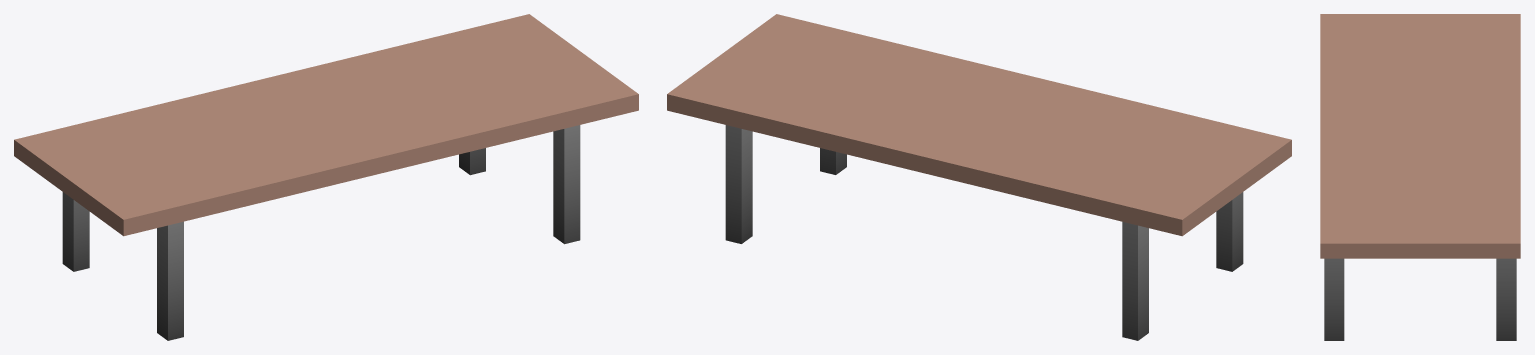
The model's file is Table.FBX.
3 views of the same model, side by side, from view 1: azimuth 30°, elevation 25°; view 2: azimuth 150°, elevation 25°; view 3: azimuth 270°, elevation 25° (orthographic). The views are drawn at different scales.
Visible parts, largest first — view 1: Object002; view 2: Object002; view 3: Object002.
Boxes of the visible parts, x1,y1,x2,y2 form: Object002: (14, 14, 638, 340); Object002: (667, 14, 1291, 340); Object002: (1320, 14, 1520, 340).
Size of the model in its own units: 0.5263 by 0.1307 by 0.1938.
